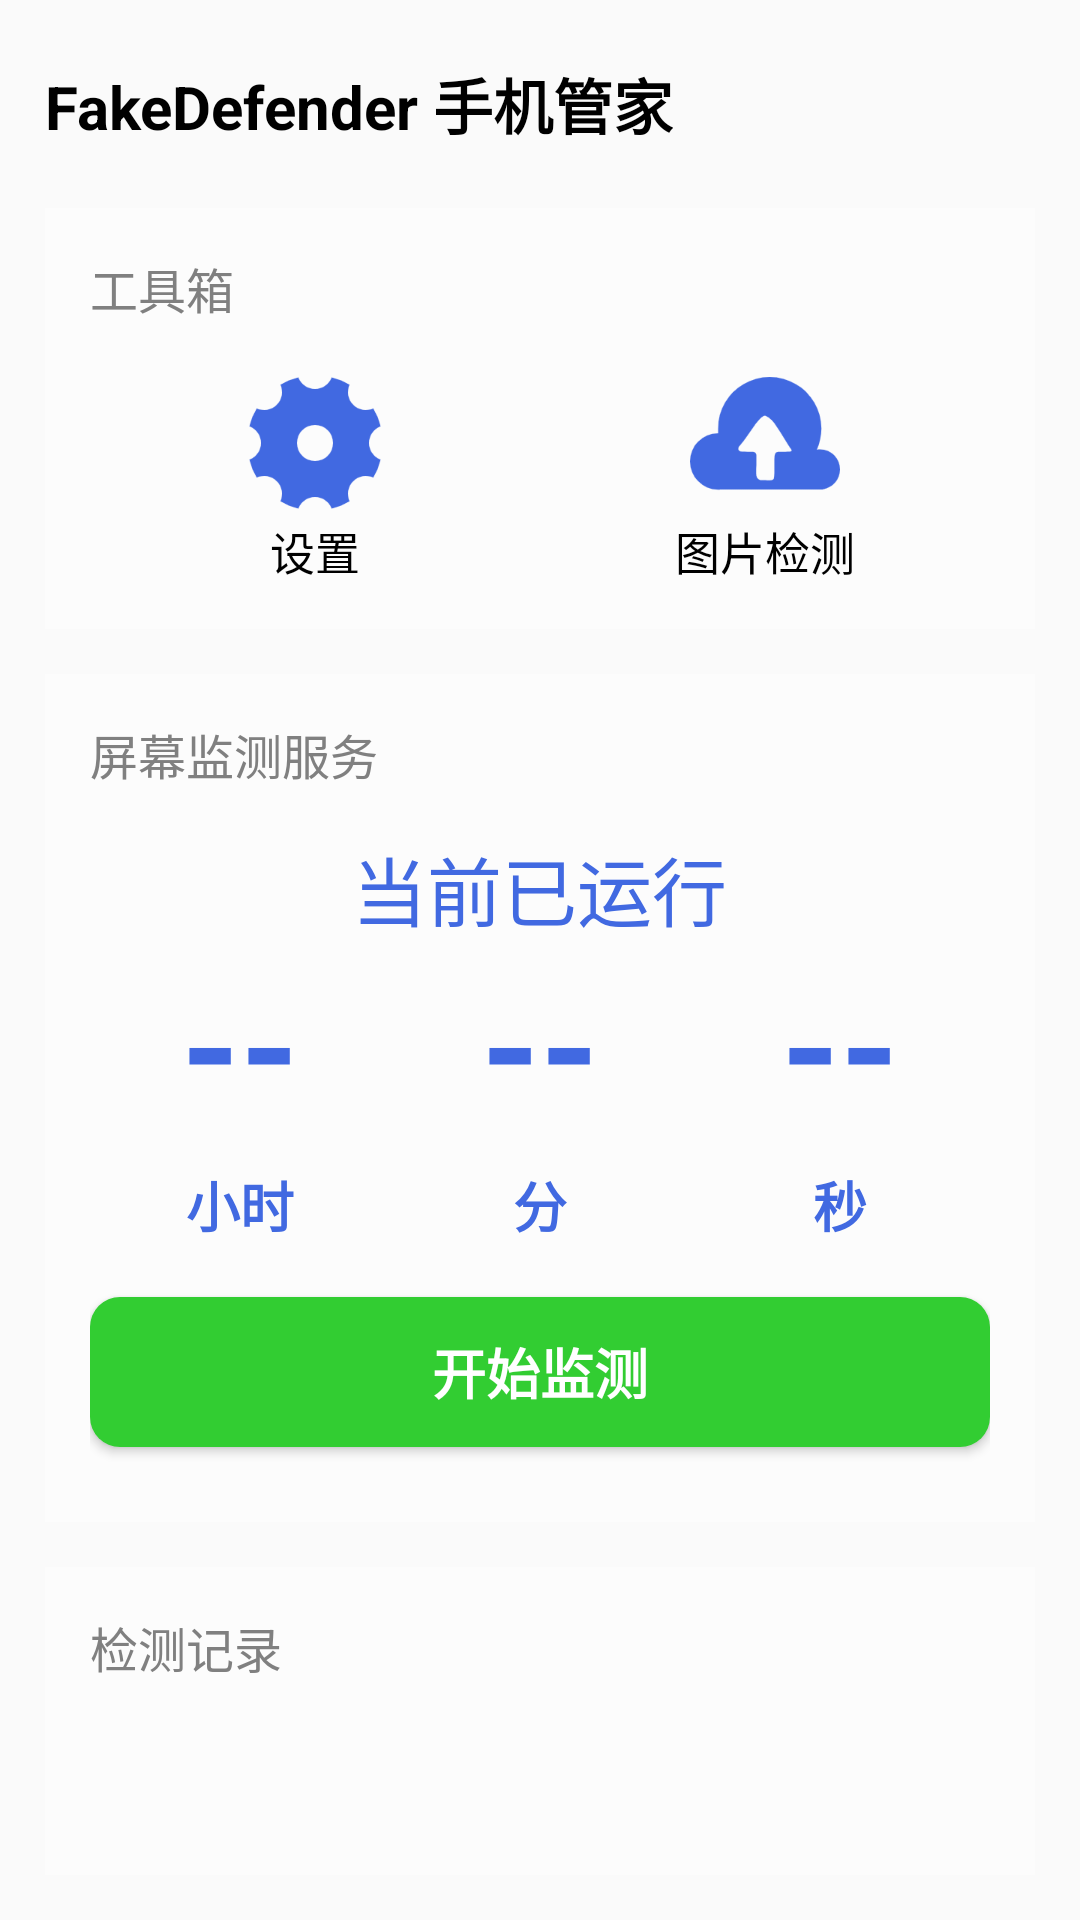

Icon click points for this 1080×1920 phone screenshot, format (x=x, y=y):
upload: (x=765, y=433)
